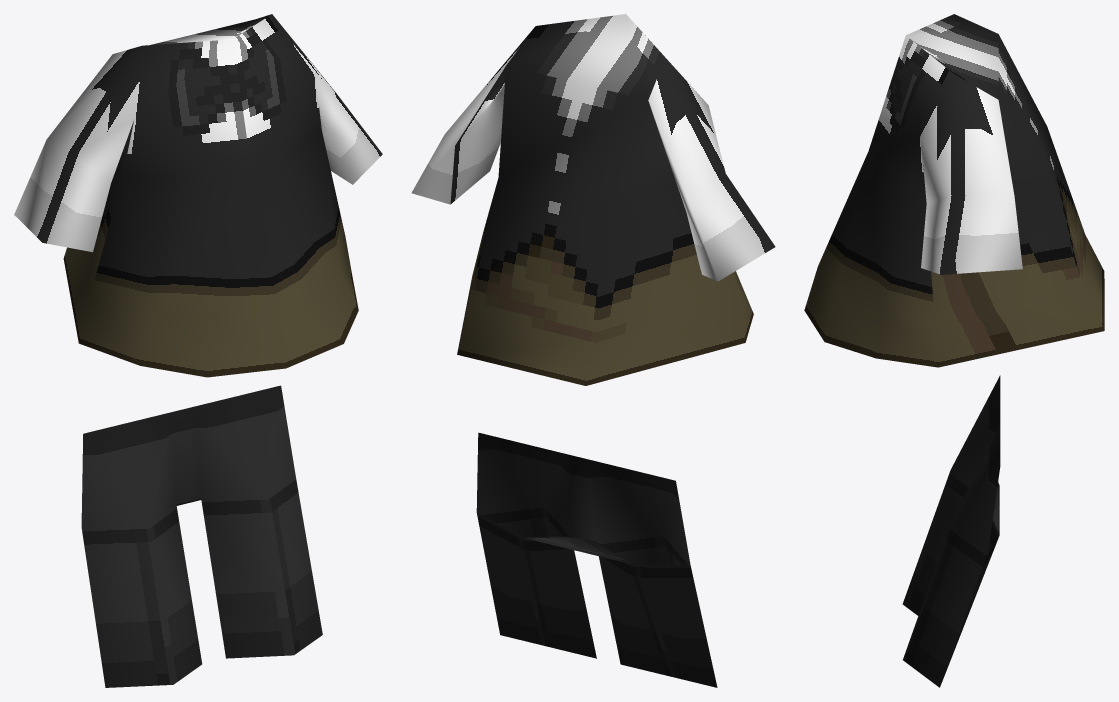
The picture shows the model from 3 angles, left to right: view 1: azimuth 30°, elevation 25°; view 2: azimuth 150°, elevation 25°; view 3: azimuth 270°, elevation 25°; orthographic projection. The views are drawn at different scales.
Parts seen in each view (by area): view 1: 1748cl_set_bot; view 2: 1748cl_set_bot; view 3: 1748cl_set_bot.
Part boxes in pixels (x1,y1,x2,y2): 1748cl_set_bot: (14, 14, 382, 687); 1748cl_set_bot: (411, 14, 775, 687); 1748cl_set_bot: (804, 14, 1104, 687).
Size of the model in its own units: 1.09 by 1.96 by 0.8848.
2 materials, 2 textured.
